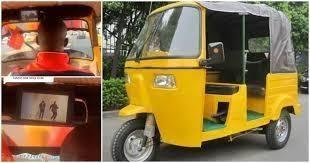keke: (110, 2, 300, 162)
